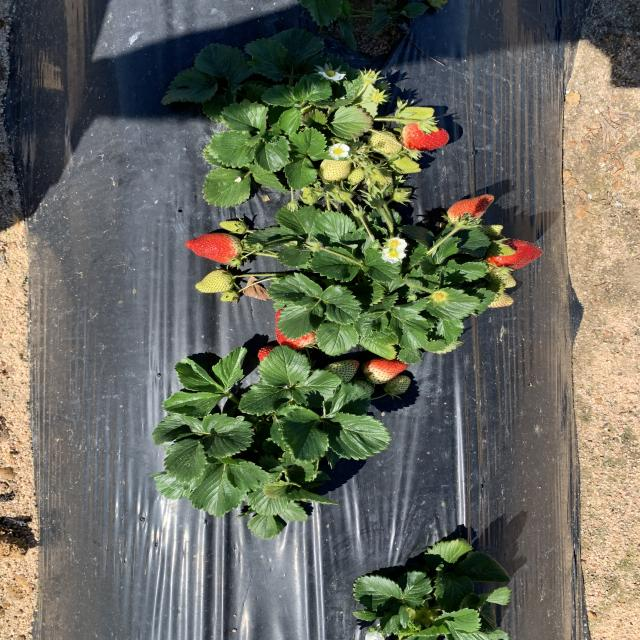unripe: (486, 238, 544, 273), (275, 308, 323, 350), (184, 232, 243, 264), (258, 346, 304, 381), (452, 192, 495, 226), (403, 125, 451, 151), (367, 359, 409, 383)
